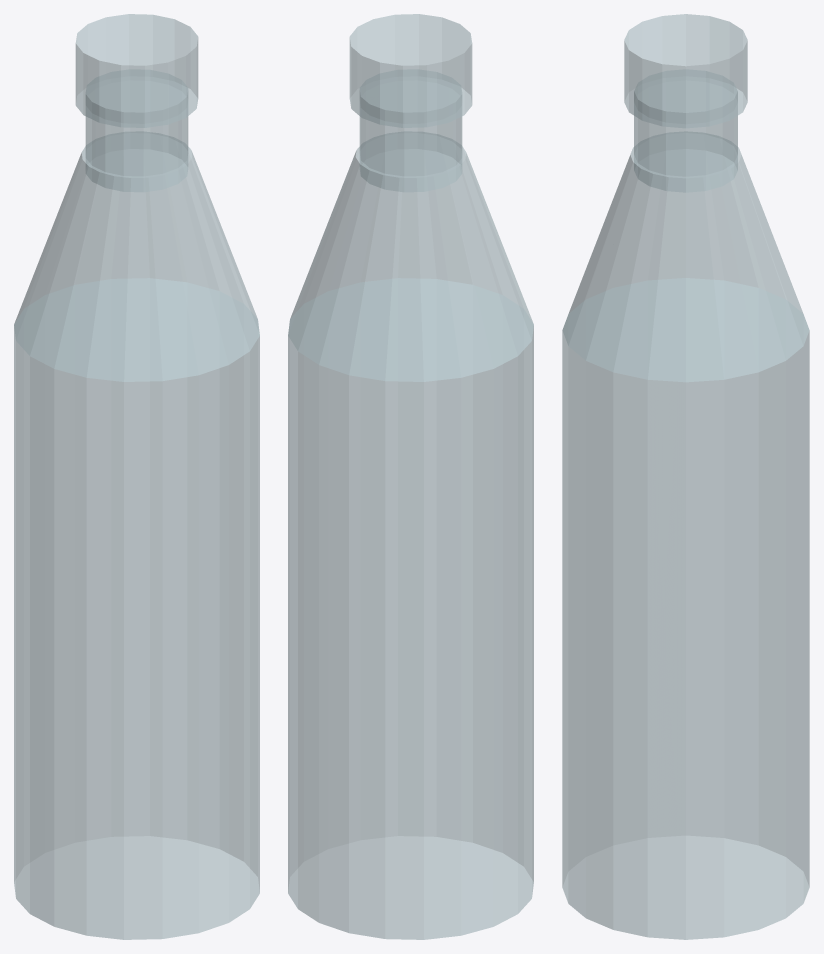
Rendered from g_water_bottle.glb.
3 views of the same model, side by side, from view 1: azimuth 30°, elevation 25°; view 2: azimuth 150°, elevation 25°; view 3: azimuth 270°, elevation 25° (orthographic).
Parts seen in each view (by area): view 1: g_water_bottle; view 2: g_water_bottle; view 3: g_water_bottle.
Boxes of the visible parts, x1,y1,x2,y2 form: g_water_bottle: [14, 14, 259, 939]; g_water_bottle: [288, 14, 533, 939]; g_water_bottle: [562, 14, 809, 939].
Size of the model in its own units: 0.09 by 0.3405 by 0.09.
